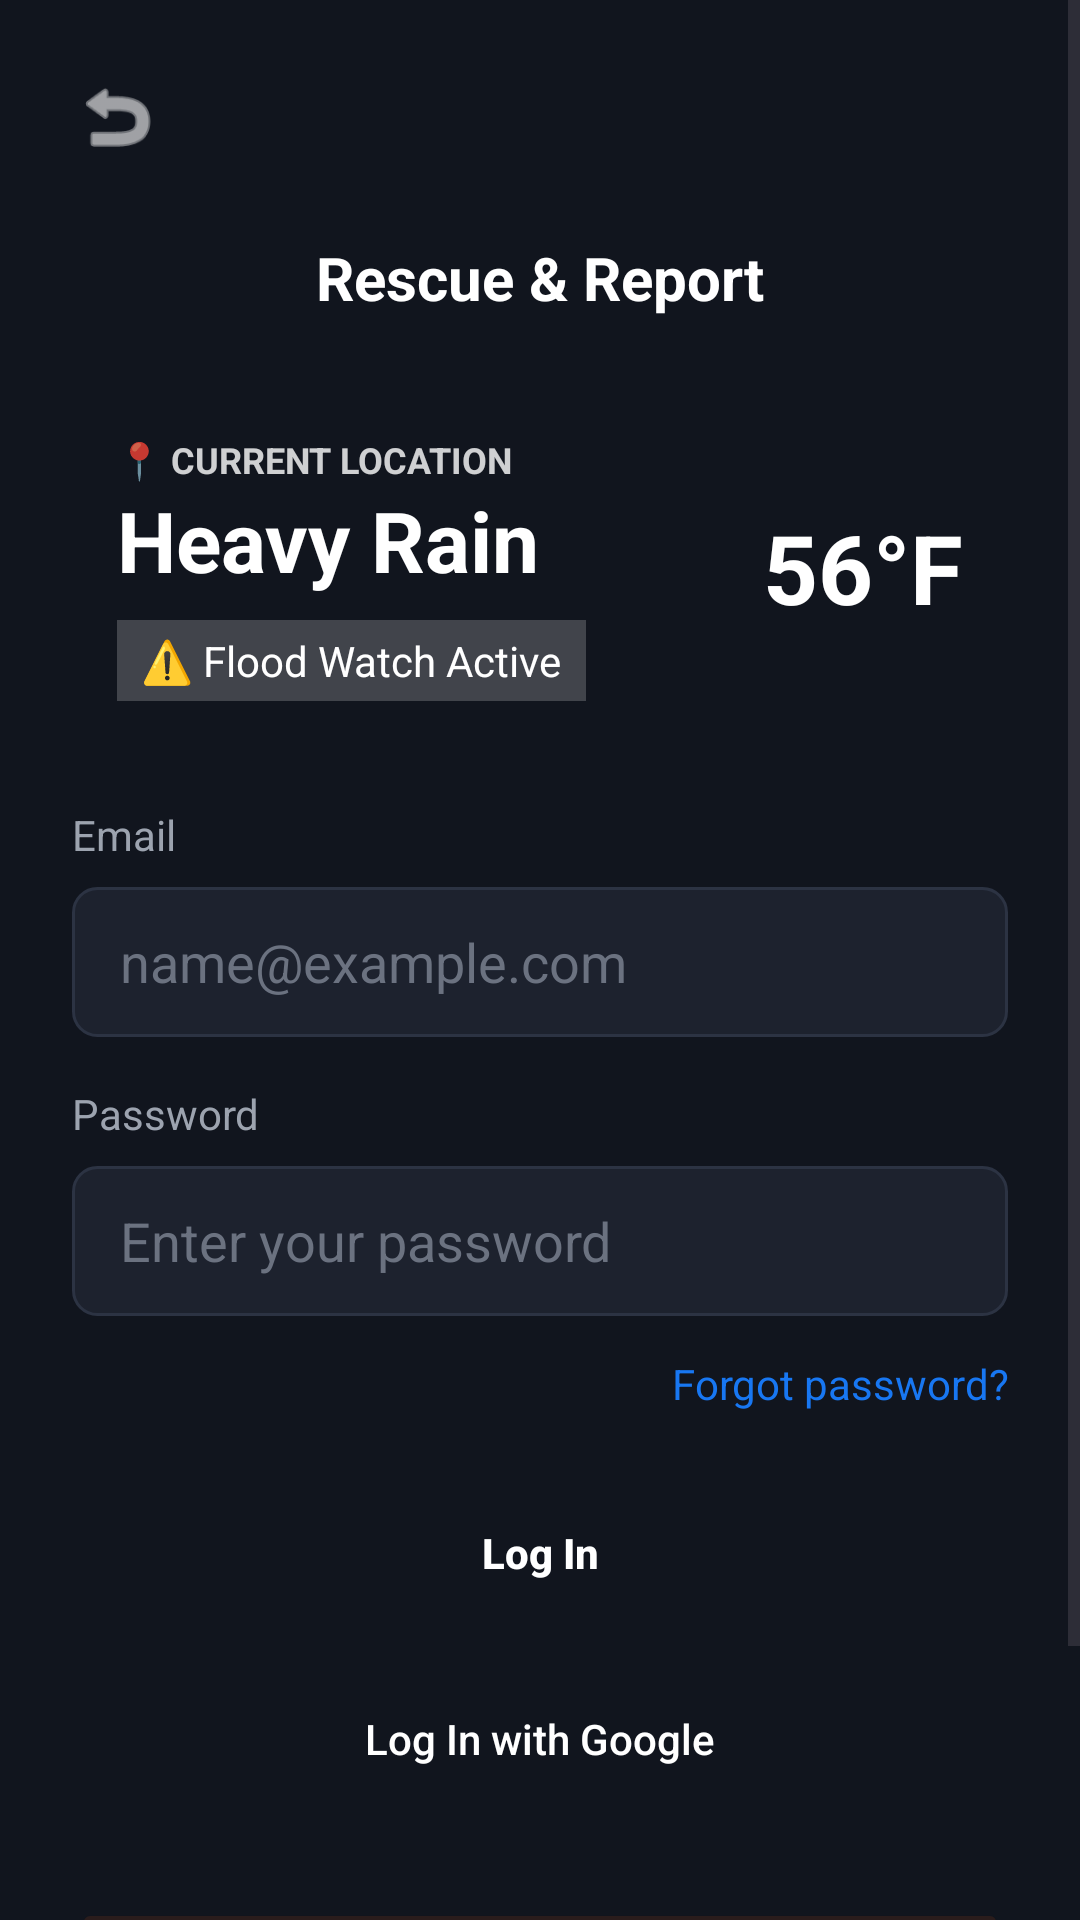

Point at icon controls on the screen. Image size 1080px x 1920px, points as [x,y].
revert: [118,117]
